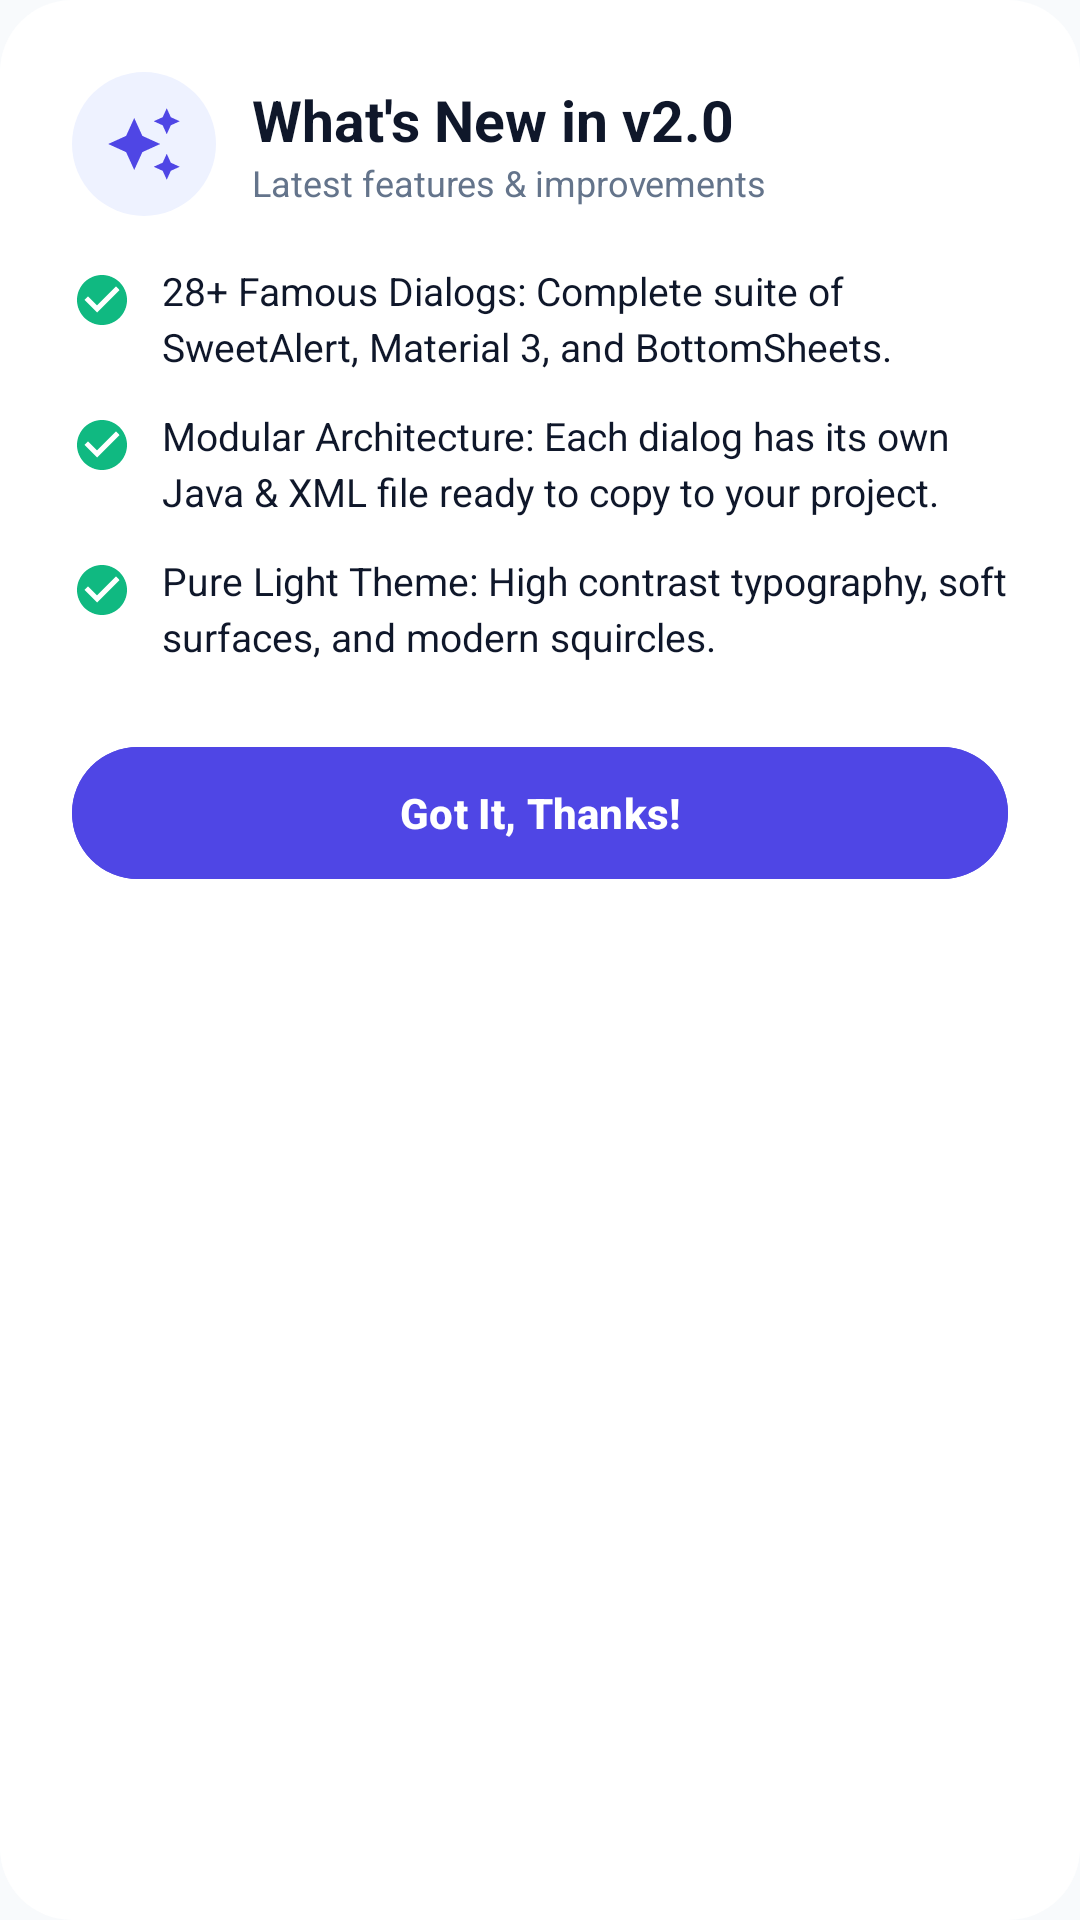

Locate icon controls on the screen. Image size 1080px x 1920px, boxes as [x1,y1,x2,y2].
Bullet: [77,275,127,325], [77,420,127,470], [77,565,127,615]
